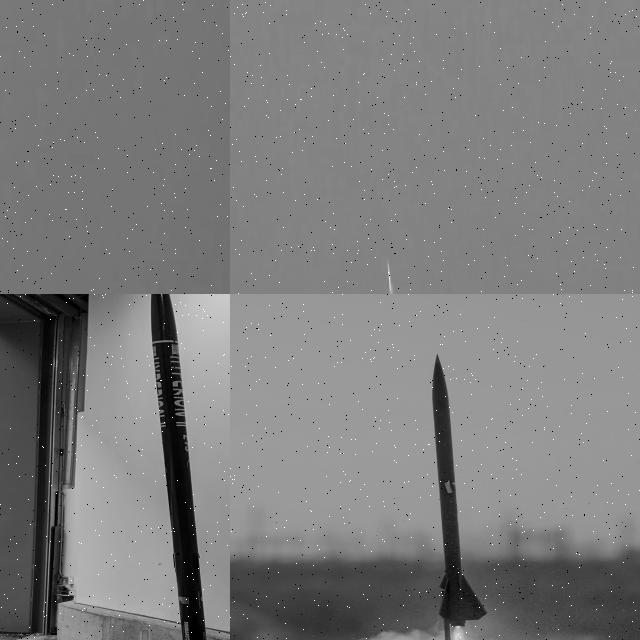Rocket: (151, 294, 207, 640), (432, 353, 488, 629), (388, 262, 392, 284)
